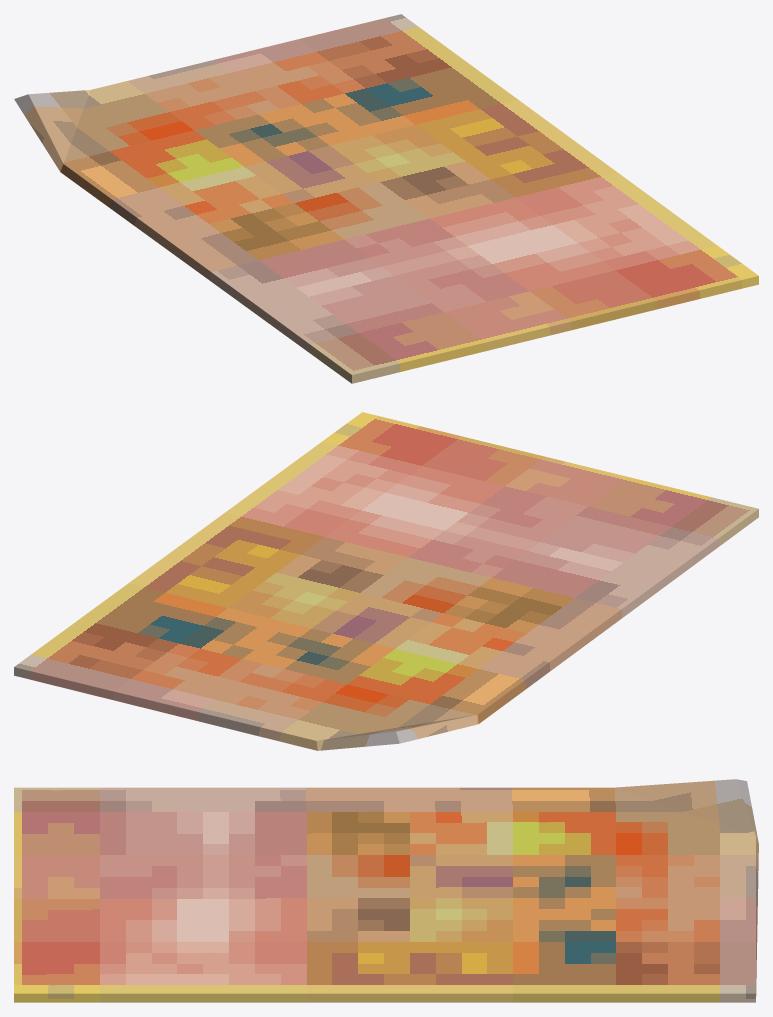
The model's file is item_rare_card.glb.
The picture shows the model from 3 angles, top to bottom: view 1: azimuth 30°, elevation 25°; view 2: azimuth 150°, elevation 25°; view 3: azimuth 270°, elevation 25°; orthographic projection. The views are drawn at different scales.
Parts seen in each view (by area): view 1: Pokemon Card; view 2: Pokemon Card; view 3: Pokemon Card.
Part boxes in pixels (x1,y1,x2,y2): Pokemon Card: (14, 14, 758, 383); Pokemon Card: (14, 412, 758, 750); Pokemon Card: (14, 779, 758, 1002).
Bounding box in the file's own units: 0.2266 × 0.0153 × 0.3446.
1 material, 1 textured.
